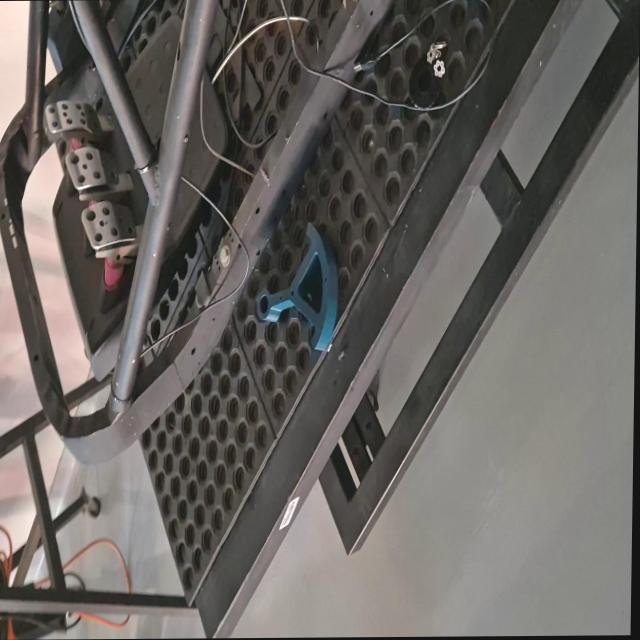haptic: (255, 220, 341, 353)
